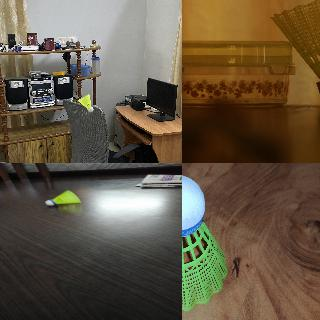shuttlecock: (182, 173, 227, 312), (270, 0, 319, 106), (45, 190, 80, 205), (78, 94, 92, 112)
